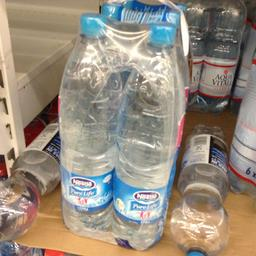water: (111, 19, 182, 248), (56, 9, 120, 233), (169, 121, 232, 255)
